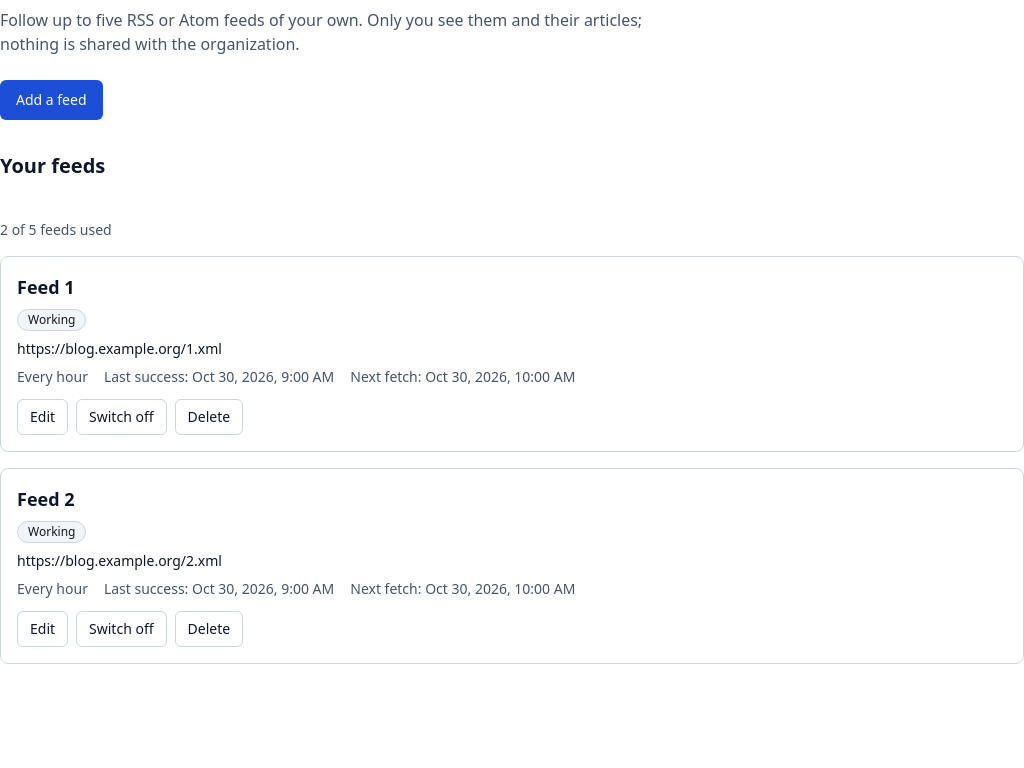
adding › sends a new feed and shows it
Click the button "Add a feed".
click(51, 100)  # box x1=0 y1=80 x2=102 y2=120
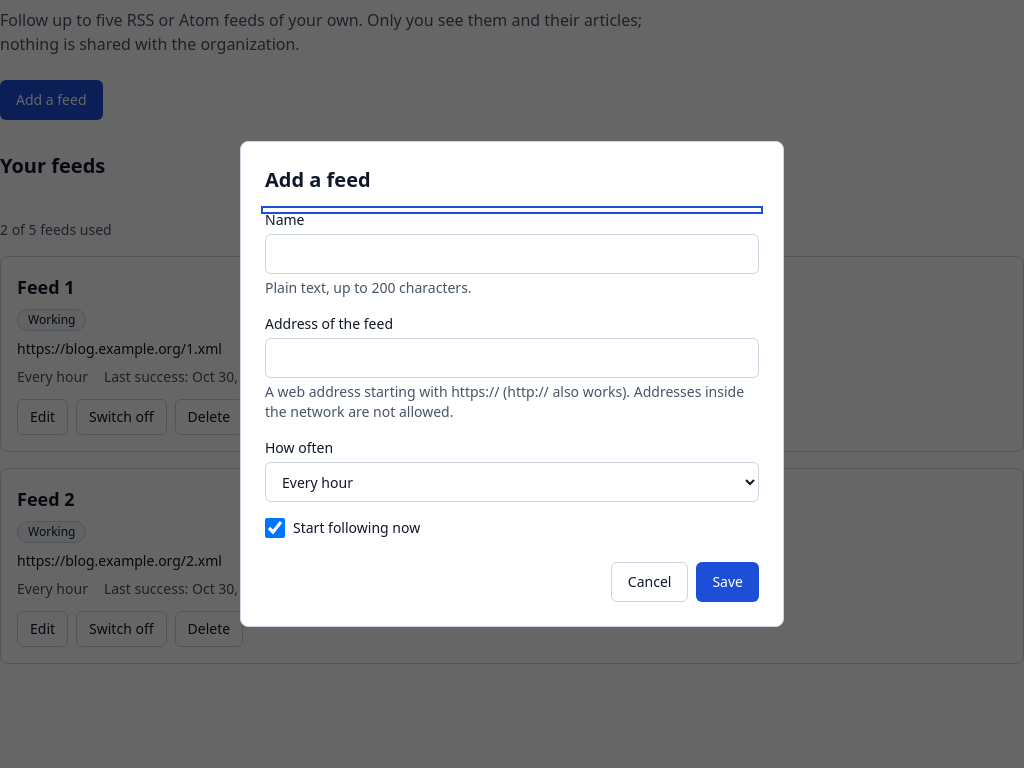
Type "Fresh" into the field labelled "Name".
click(512, 254); type("Fresh")  # box x1=265 y1=234 x2=759 y2=274
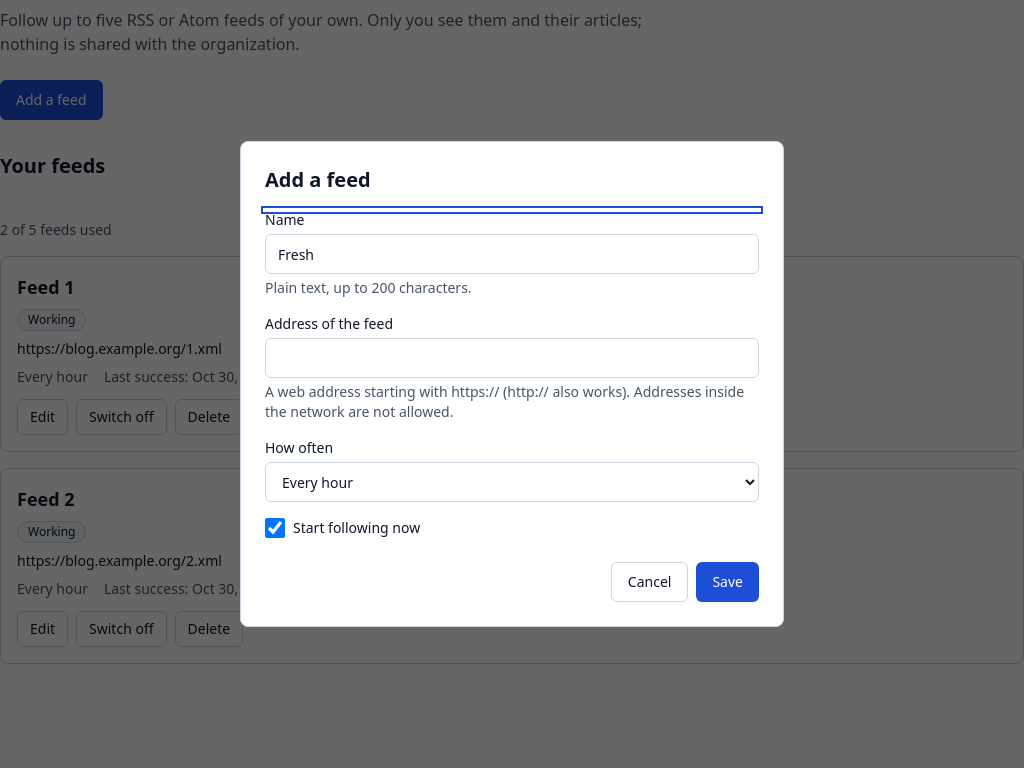
Type "https://fresh.example.org/feed.xml" into the field labelled "Address of the feed".
click(512, 358); type("https://fresh.example.org/feed.xml")  # box x1=265 y1=338 x2=759 y2=378
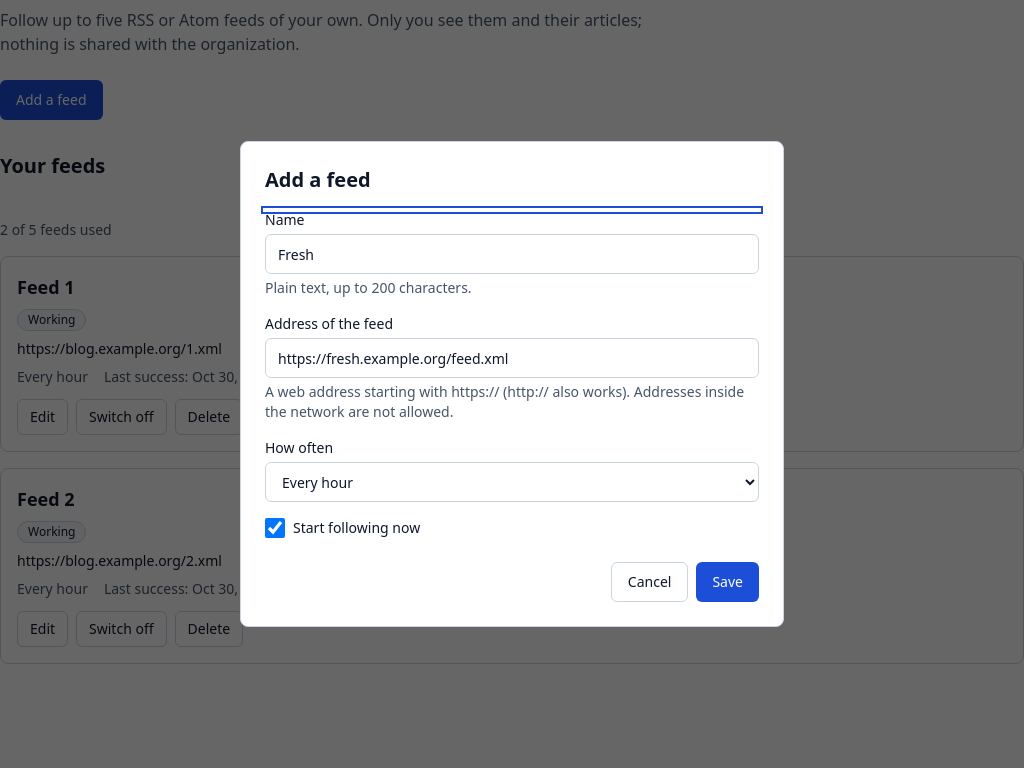
Click the button "Save".
click(728, 582)  # box x1=696 y1=562 x2=759 y2=602
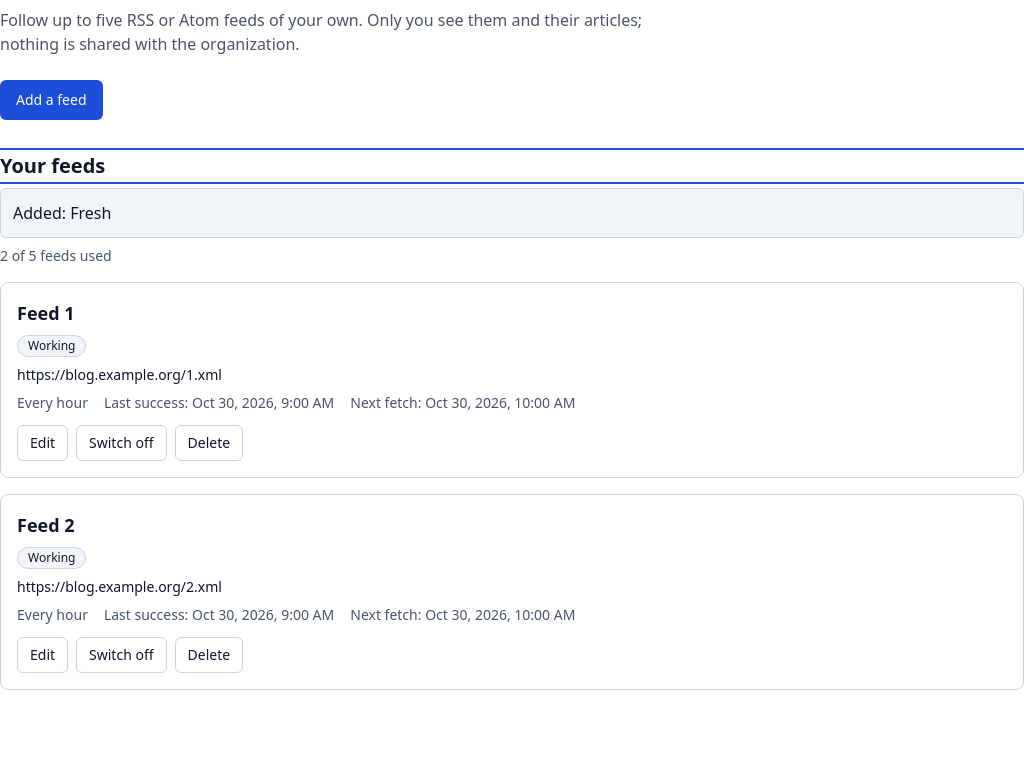
Result: the message reads "Added: Fresh" at x1=13 y1=202 x2=111 y2=224
Result: the dialog is gone
